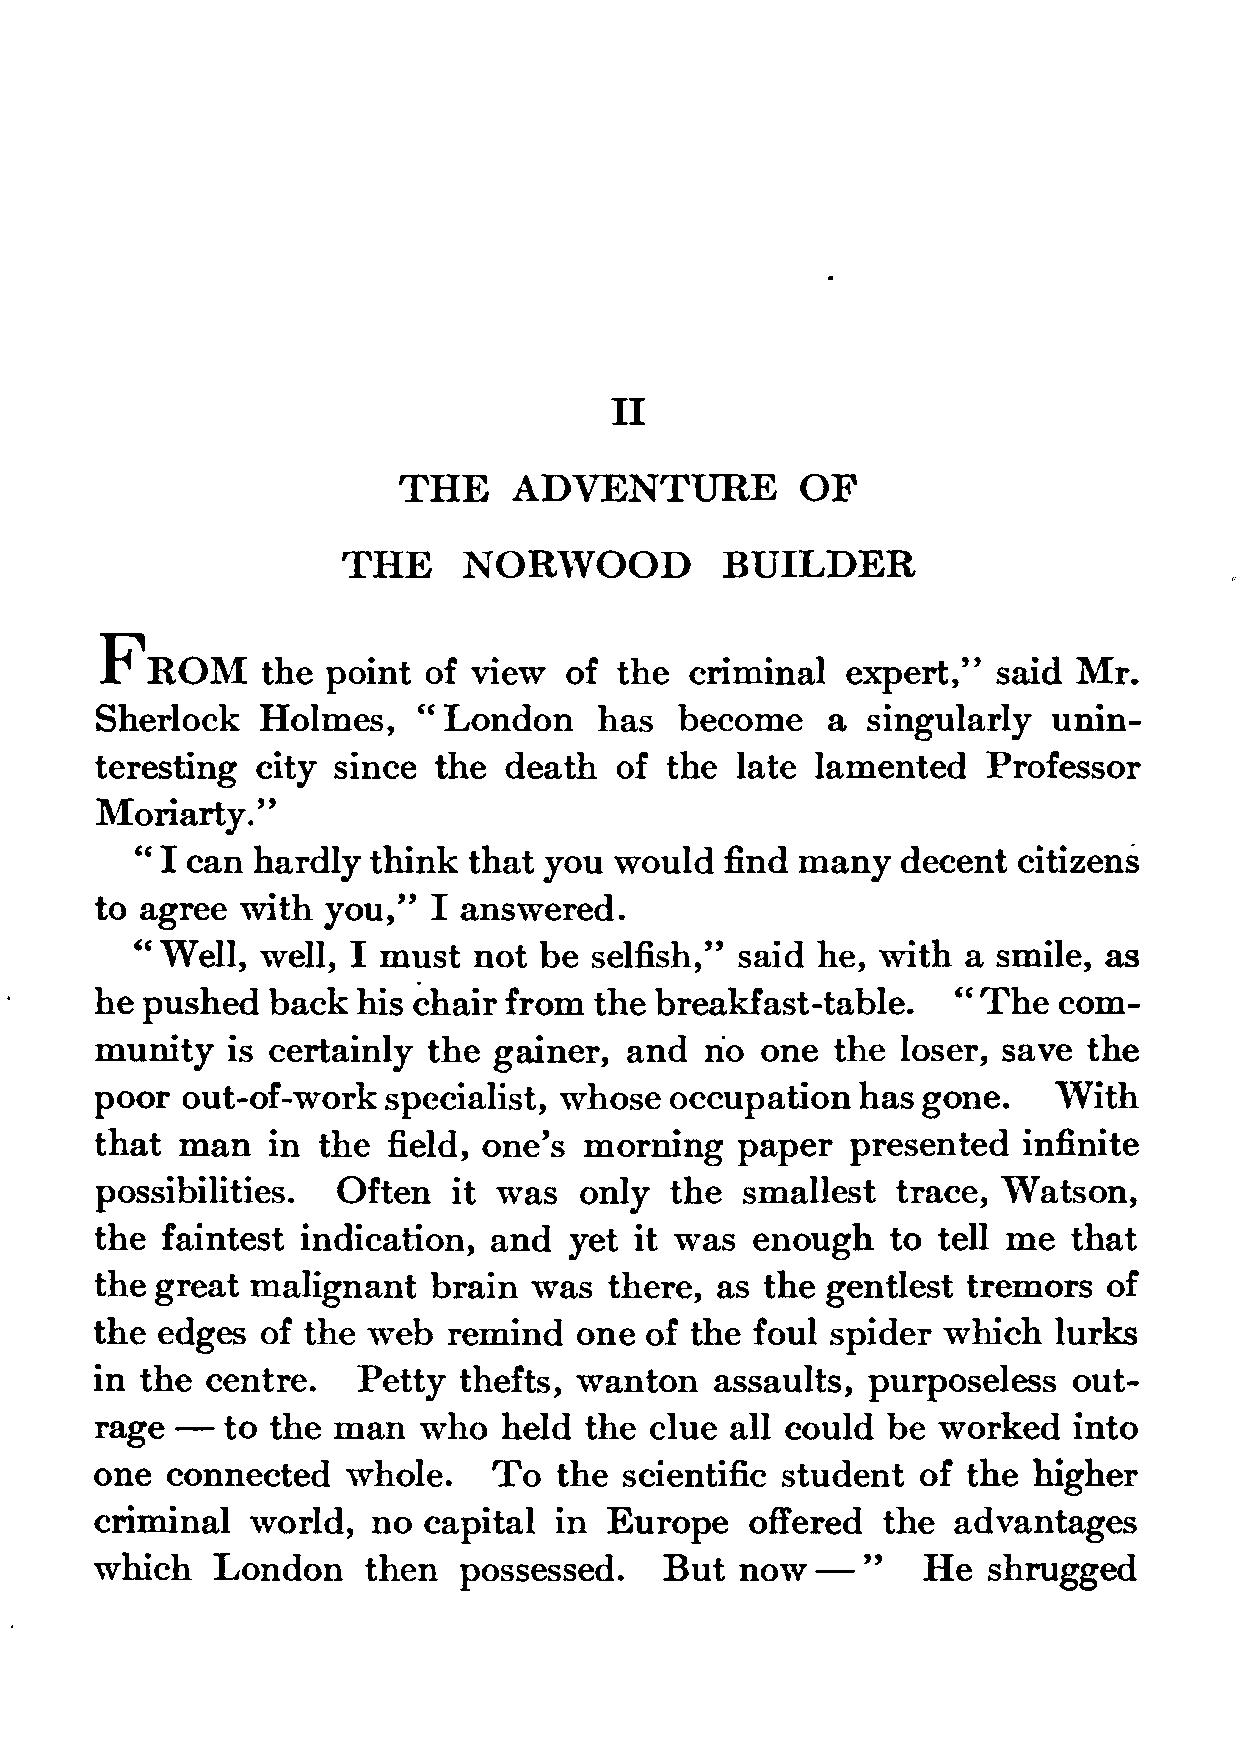chapter: (340, 395, 918, 582)
content: (90, 625, 1142, 1596)
